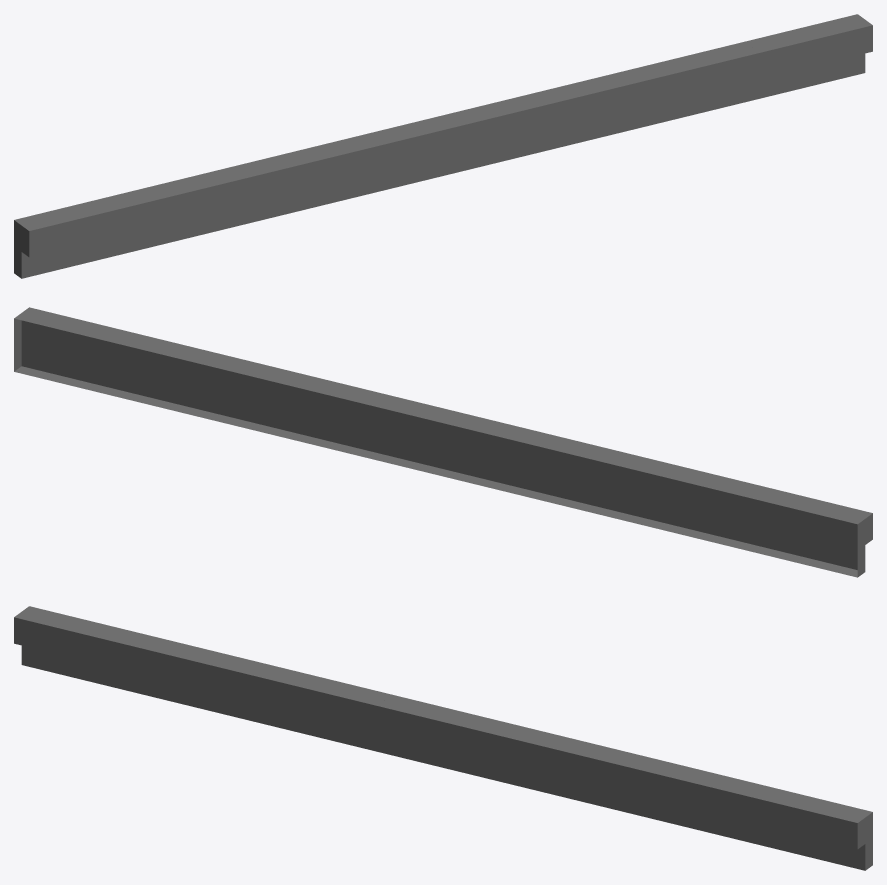
The model's file is wall_033.fbx.
3 views of the same model, one above another, from view 1: azimuth 30°, elevation 25°; view 2: azimuth 150°, elevation 25°; view 3: azimuth 330°, elevation 25° (orthographic).
Parts seen in each view (by area): view 1: wall_033; view 2: wall_033; view 3: wall_033.
Boxes of the visible parts, x1,y1,x2,y2 form: wall_033: [14, 14, 872, 278]; wall_033: [14, 307, 872, 577]; wall_033: [14, 606, 872, 870].
Size of the model in its own units: 400 by 12.55 by 24.15.
